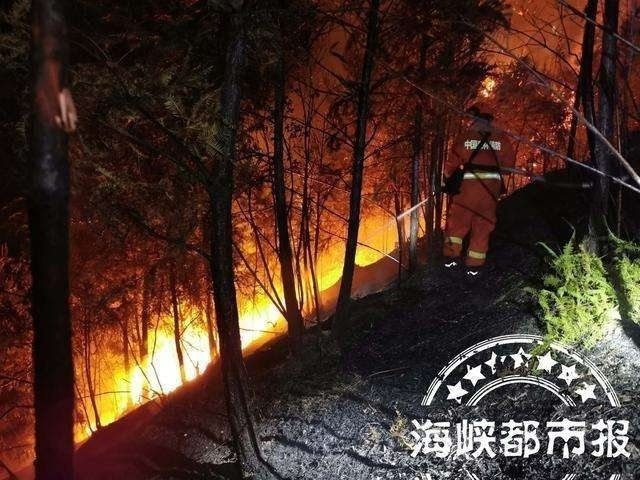fire: (112, 303, 216, 414)
